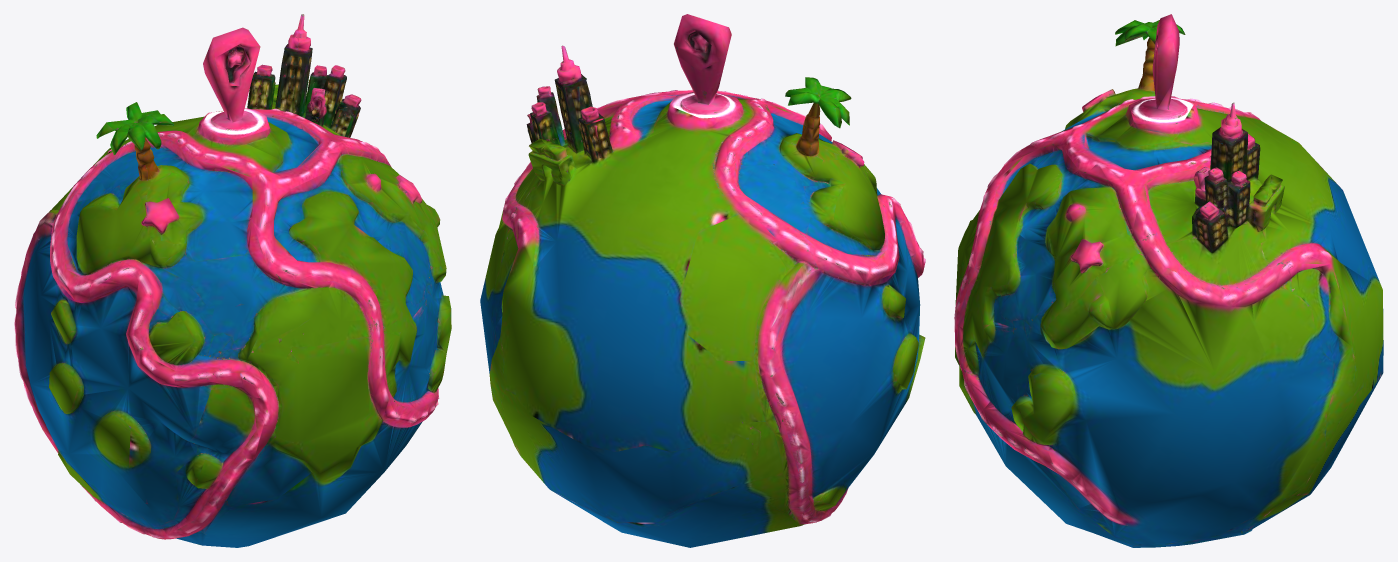
Rendered from poplur-globe-lite.glb.
3 renders of one model, left to right at view 1: azimuth 30°, elevation 25°; view 2: azimuth 150°, elevation 25°; view 3: azimuth 270°, elevation 25°, orthographic. The views are drawn at different scales.
Bounding box in the file's own units: 1.47 × 1.88 × 1.43.
1 material, 1 textured.
